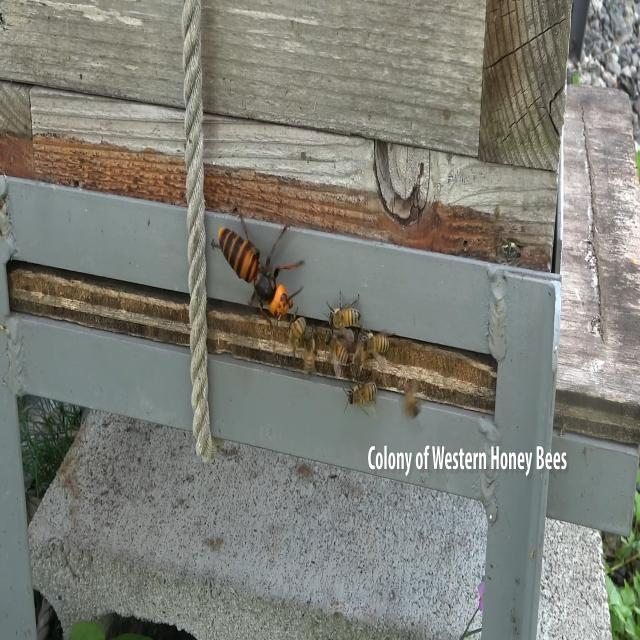Bees: (322, 291, 360, 332), (343, 372, 377, 414), (324, 330, 350, 377), (361, 331, 389, 372), (286, 308, 306, 350), (303, 332, 316, 372)
Hornets: (210, 210, 306, 326)
